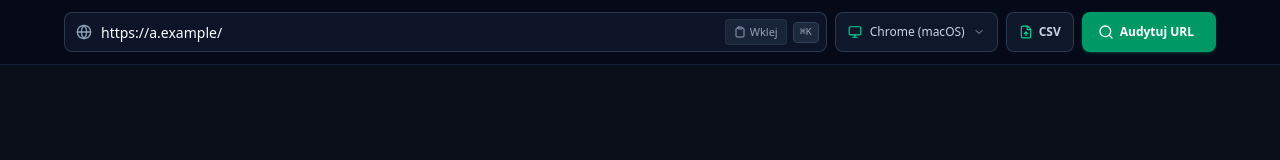
Scenario: URLInput project context › persists a URL pasted from the clipboard in the active project draft
The width and height of the screenshot is (1280, 160).
Click the button "Wklej" at (756, 32), box [725,19,787,45]
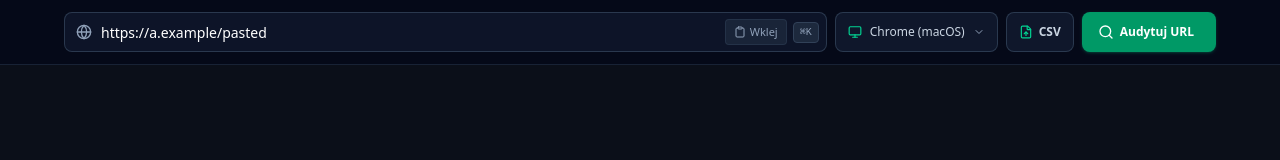
Now the field named "URL strony do audytu" holds "https://a.example/pasted", box [64,12,827,52]
